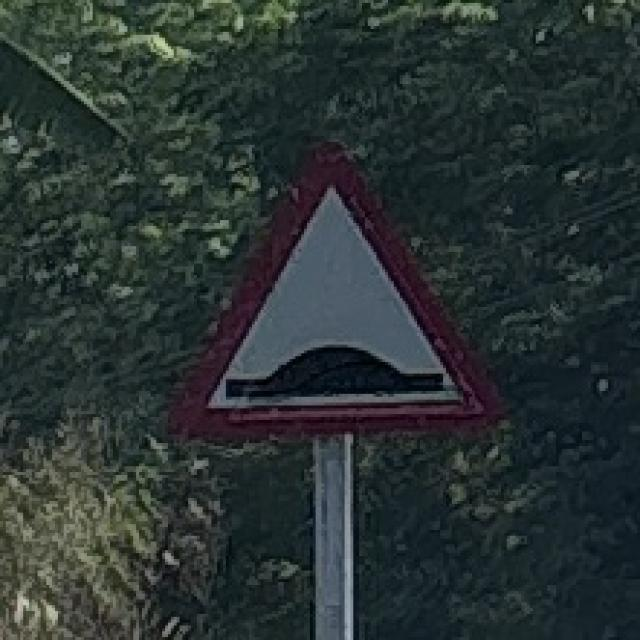HUMP_OR_ROUGH_ROAD: (172, 148, 510, 448)
